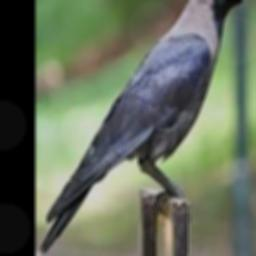Crow: (41, 0, 256, 255)
